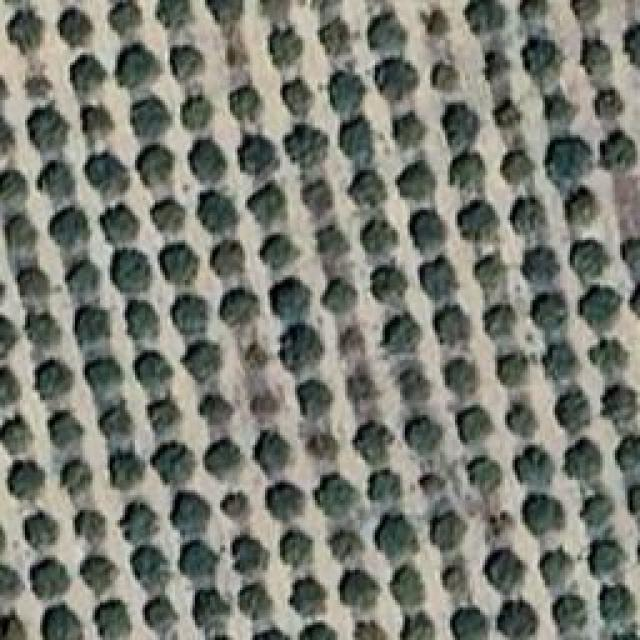Tree: (543, 138, 602, 182), (155, 440, 201, 493), (483, 547, 529, 600), (375, 310, 425, 356), (185, 138, 234, 184), (130, 348, 175, 398), (175, 540, 226, 584), (235, 130, 281, 178), (510, 447, 555, 496), (593, 583, 639, 630), (578, 287, 626, 332), (3, 463, 53, 505), (338, 563, 379, 614), (563, 438, 607, 485), (170, 490, 216, 534), (25, 110, 72, 153), (441, 100, 484, 147), (70, 303, 117, 346), (375, 58, 421, 101), (0, 218, 42, 265), (538, 545, 582, 589), (452, 200, 498, 242), (355, 213, 402, 254), (225, 538, 265, 586), (366, 10, 408, 55), (517, 243, 562, 285), (247, 433, 292, 475), (522, 495, 567, 537), (352, 418, 393, 464), (340, 363, 381, 409), (298, 178, 341, 221), (110, 250, 153, 293), (375, 513, 417, 557), (312, 475, 357, 516), (160, 240, 206, 280), (442, 602, 490, 640), (468, 253, 510, 296), (28, 560, 71, 602), (548, 595, 592, 636), (130, 548, 175, 588), (10, 265, 55, 305), (365, 265, 407, 307), (118, 498, 161, 539), (418, 258, 458, 302), (125, 98, 172, 135), (396, 160, 438, 201), (530, 290, 572, 331), (105, 450, 146, 492), (53, 5, 96, 45), (408, 208, 448, 251), (498, 600, 541, 640), (455, 405, 500, 443), (203, 440, 249, 477), (180, 340, 226, 377), (85, 150, 126, 191), (190, 590, 231, 631), (135, 148, 177, 188), (318, 15, 360, 55), (555, 390, 595, 432), (443, 360, 483, 402), (118, 48, 161, 87), (248, 185, 291, 224), (270, 277, 307, 322), (283, 77, 319, 123), (328, 68, 363, 115), (218, 290, 259, 330), (283, 325, 323, 366), (568, 238, 608, 279), (435, 310, 476, 350), (36, 360, 76, 401), (293, 378, 333, 419), (18, 510, 60, 549), (288, 123, 331, 161), (602, 385, 640, 428), (310, 223, 353, 261), (263, 482, 307, 519), (0, 165, 33, 214), (173, 290, 208, 336), (198, 190, 237, 231), (40, 160, 79, 201), (560, 188, 599, 229), (495, 352, 534, 393), (485, 303, 523, 344), (470, 0, 511, 38), (573, 35, 615, 72), (37, 607, 84, 640), (290, 575, 329, 614), (600, 130, 638, 170), (428, 515, 468, 553), (92, 600, 130, 640), (365, 470, 406, 507), (137, 598, 178, 635), (275, 530, 312, 571), (88, 355, 130, 391), (388, 110, 427, 148), (68, 55, 109, 91), (520, 37, 561, 73), (63, 258, 105, 293), (508, 403, 552, 436), (268, 28, 306, 66), (450, 150, 488, 188), (8, 8, 45, 47), (260, 235, 299, 272), (590, 343, 629, 380), (585, 540, 624, 577), (103, 203, 143, 239), (348, 173, 388, 209), (390, 568, 425, 609), (323, 275, 360, 313), (397, 368, 434, 406), (465, 455, 502, 493), (123, 297, 161, 334), (55, 458, 92, 496), (545, 88, 580, 128), (233, 588, 273, 623), (105, 0, 142, 37), (543, 341, 580, 378), (53, 208, 91, 244), (44, 407, 82, 443), (75, 103, 114, 138), (233, 85, 264, 129), (328, 527, 365, 563), (0, 415, 35, 453), (167, 45, 201, 84), (95, 403, 134, 437), (340, 118, 374, 156), (404, 415, 442, 449), (212, 238, 245, 277), (502, 150, 536, 187), (75, 555, 112, 589), (145, 400, 182, 433), (415, 468, 449, 503), (590, 90, 626, 123), (67, 510, 103, 543), (28, 313, 62, 347), (512, 198, 545, 233), (158, 0, 196, 30), (478, 48, 516, 78), (152, 200, 185, 234), (428, 58, 463, 90), (307, 430, 344, 460), (218, 494, 255, 524), (208, 0, 247, 28), (248, 390, 282, 422), (615, 230, 640, 273), (435, 563, 468, 595), (490, 98, 524, 129), (583, 498, 618, 528), (183, 95, 212, 131), (195, 390, 225, 424), (0, 563, 24, 603), (238, 345, 269, 375), (395, 617, 435, 640), (295, 620, 340, 640), (0, 313, 19, 359), (617, 435, 640, 472), (355, 615, 390, 639), (27, 73, 59, 99), (428, 10, 457, 38), (567, 0, 599, 25), (0, 365, 19, 404), (518, 0, 559, 18), (0, 612, 25, 640), (625, 13, 640, 57), (622, 485, 640, 515)
